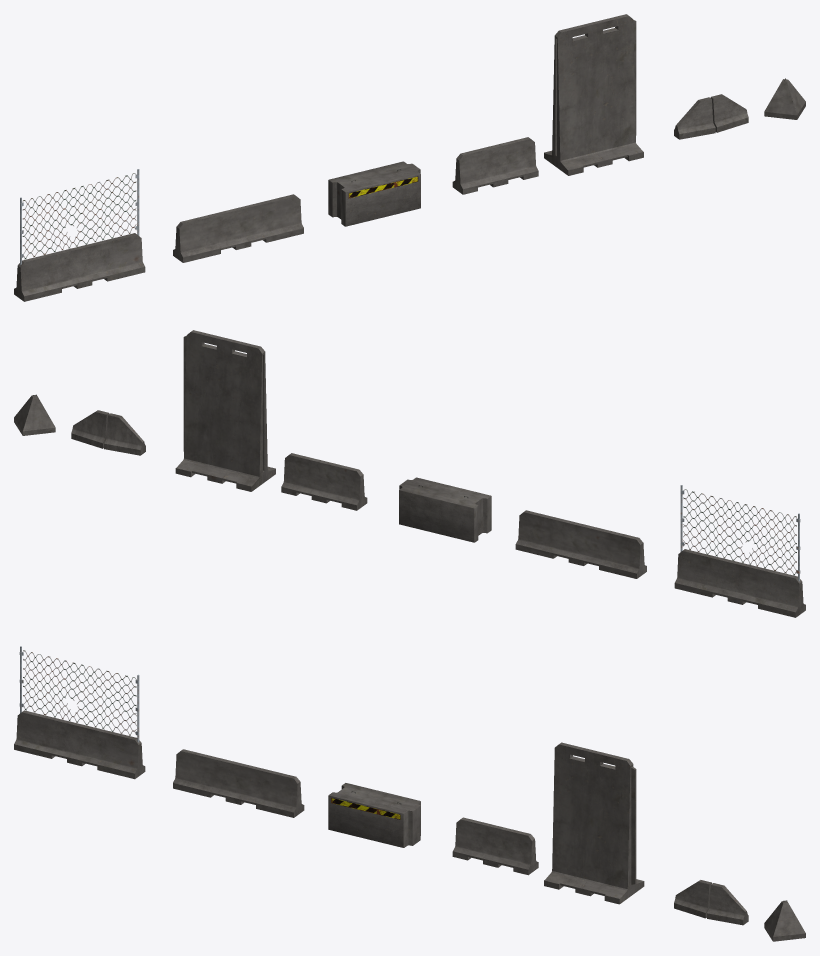
3 renders of one model, top to bottom at view 1: azimuth 30°, elevation 25°; view 2: azimuth 150°, elevation 25°; view 3: azimuth 330°, elevation 25°, orthographic.
Visible parts, largest first — view 1: Barricade 1.001, Barricade 1.003, Barricade 1.002, Cube, Barricade 1, Barricade 1.004, Cube.002, Barricade 1.006; view 2: Barricade 1.001, Barricade 1.003, Barricade 1.002, Cube, Barricade 1, Barricade 1.004, Cube.002, Barricade 1.006; view 3: Barricade 1.001, Barricade 1.003, Barricade 1.002, Cube, Barricade 1, Barricade 1.006, Cube.002, Barricade 1.004.
Part boxes in pixels (x1,y1,x2,y2): Barricade 1.001: (544, 14, 643, 175); Barricade 1.003: (14, 169, 145, 301); Barricade 1.002: (173, 194, 303, 262); Cube: (328, 161, 420, 226); Barricade 1: (452, 137, 538, 194); Barricade 1.004: (674, 97, 715, 139); Cube.002: (764, 78, 805, 119); Barricade 1.006: (710, 94, 748, 132); Barricade 1.001: (175, 330, 275, 491); Barricade 1.003: (674, 485, 805, 617); Barricade 1.002: (515, 510, 646, 578); Cube: (399, 477, 491, 542); Barricade 1: (281, 453, 367, 510); Barricade 1.004: (104, 413, 145, 455); Cube.002: (14, 394, 55, 435); Barricade 1.006: (71, 410, 109, 448); Barricade 1.001: (544, 742, 644, 904); Barricade 1.003: (14, 646, 145, 779); Barricade 1.002: (173, 749, 304, 817); Cube: (328, 783, 420, 847); Barricade 1: (452, 817, 538, 875); Barricade 1.006: (707, 883, 748, 925); Cube.002: (764, 900, 805, 941); Barricade 1.004: (674, 880, 711, 918).
Bounding box in the file's own units: 20.8 × 3.4 × 1.12.
8 materials, 8 textured.
